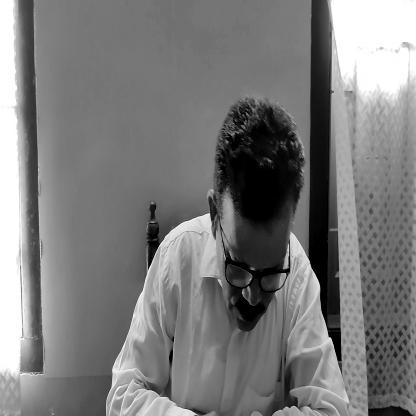Normal: (217, 107, 297, 332)
